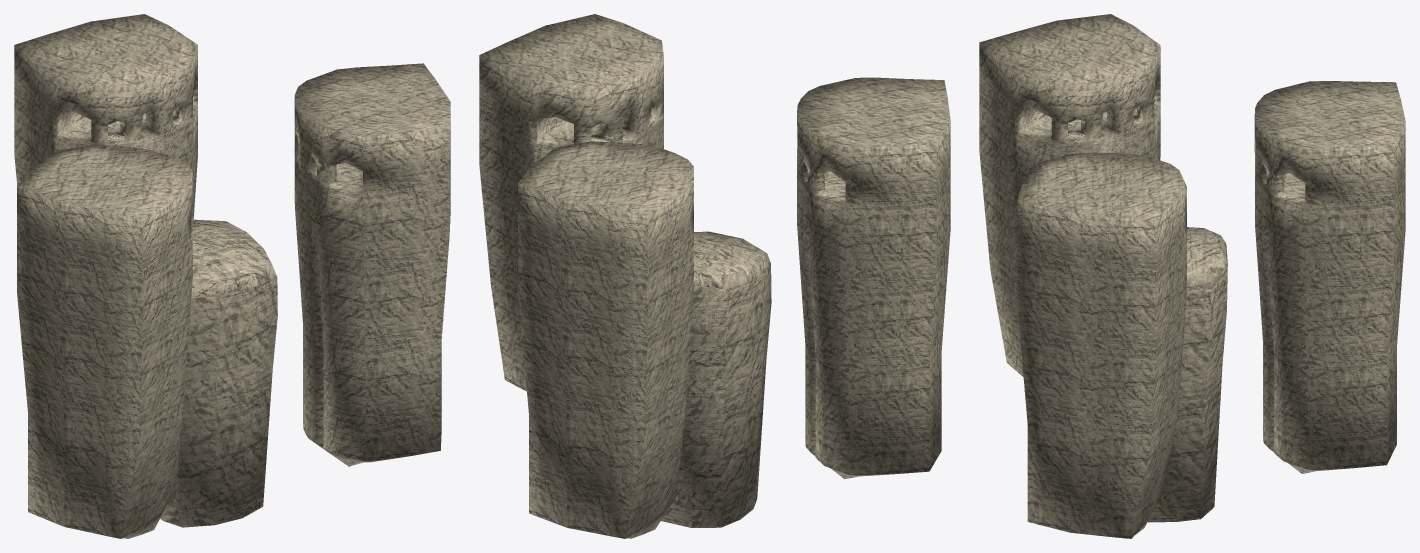
Rendered from SM_Chateaux_08_00.fbx.
The picture shows the model from 3 angles, left to right: view 1: azimuth 30°, elevation 25°; view 2: azimuth 150°, elevation 25°; view 3: azimuth 270°, elevation 25°; orthographic projection. The views are drawn at different scales.
Parts seen in each view (by area): view 1: SM_Chateaux_08_00; view 2: SM_Chateaux_08_00; view 3: SM_Chateaux_08_00.
Boxes of the visible parts, x1,y1,x2,y2 form: SM_Chateaux_08_00: (14, 14, 450, 538); SM_Chateaux_08_00: (479, 14, 950, 538); SM_Chateaux_08_00: (979, 14, 1405, 538).
Size of the model in its own units: 12205 by 10685 by 10620.
